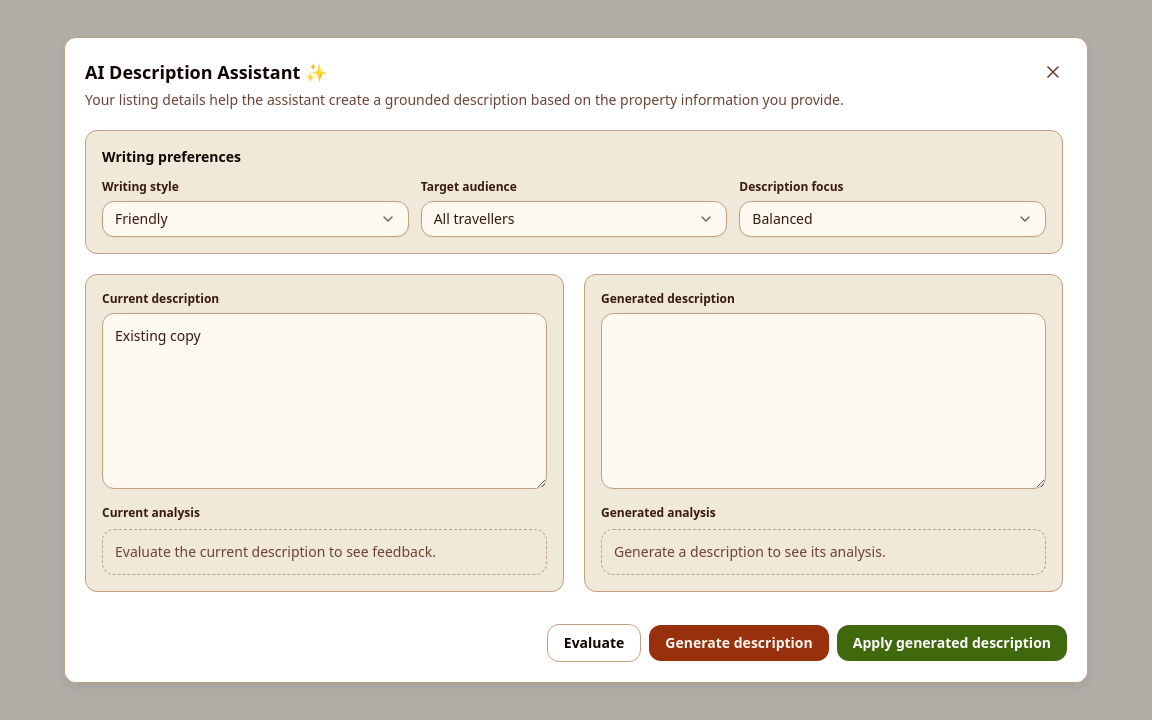
Test case: HostAiDescriptionAssistant › shows a degraded response and unlocks the assistant
Click the button "Generate description".
click(739, 643)  # box [649,625,829,661]
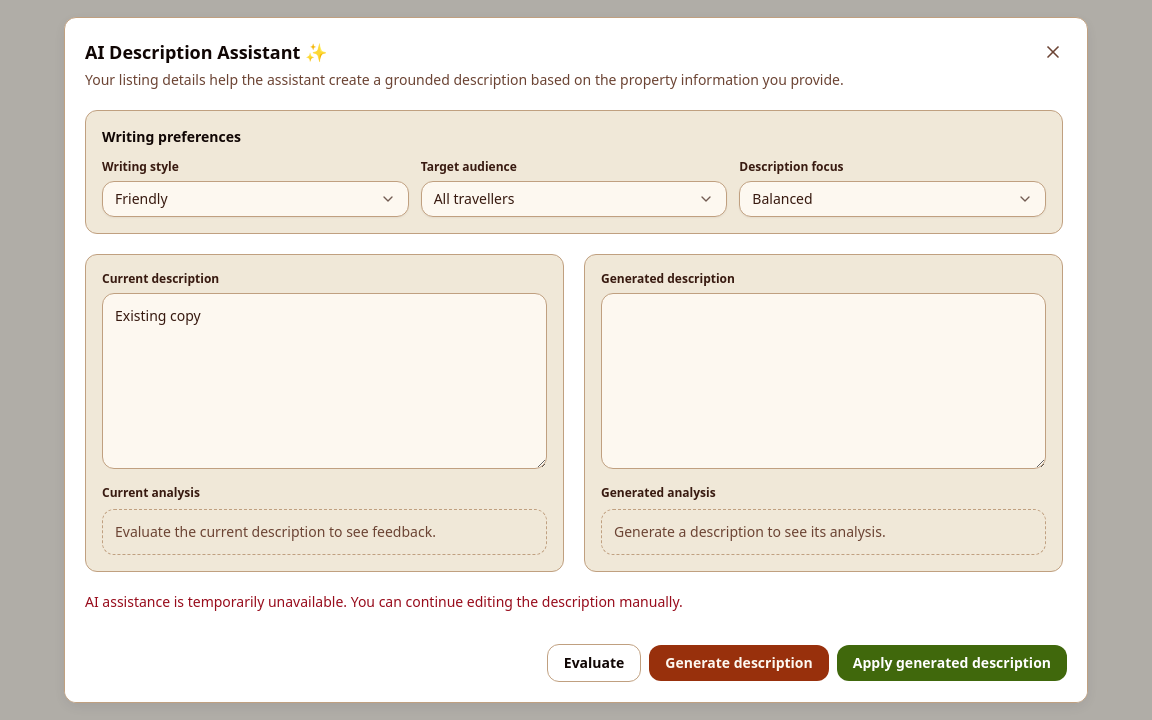
Check: the button "Generate description" is enabled, box [649,645,829,681]
Check: the message shows "AI assistance is temporarily unavailable", box [85,592,683,611]
